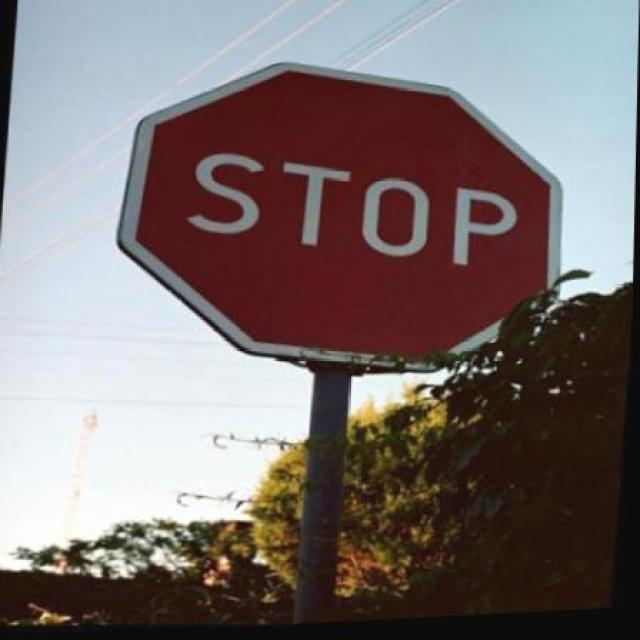stop_sign: (104, 42, 580, 399)
